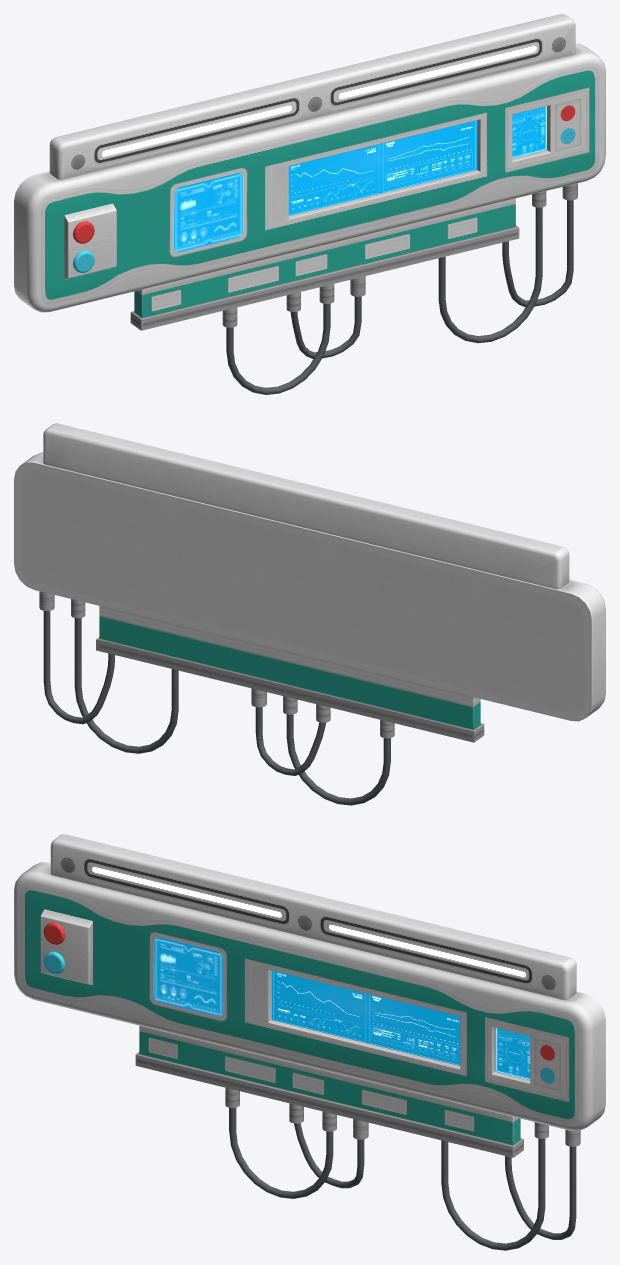
Rendered from MedBedPanel01.FBX.
The picture shows the model from 3 angles, top to bottom: view 1: azimuth 30°, elevation 25°; view 2: azimuth 150°, elevation 25°; view 3: azimuth 330°, elevation 25°; orthographic projection.
Visible parts, largest first — view 1: MedBedPanel01; view 2: MedBedPanel01; view 3: MedBedPanel01.
Boxes of the visible parts, <box> form: MedBedPanel01: <box>14,14,605,394</box>; MedBedPanel01: <box>14,423,605,805</box>; MedBedPanel01: <box>14,834,605,1250</box>.
Size of what is drawn, in the model's own units: 1.69 by 0.861 by 0.1196.
